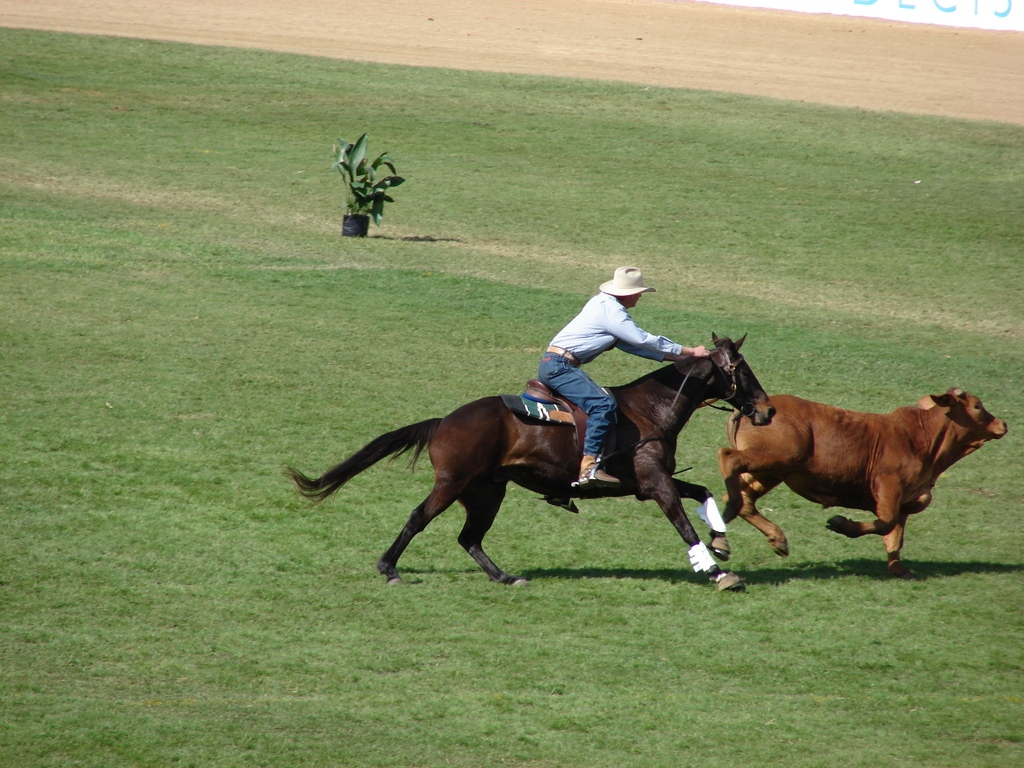horse: (280, 331, 776, 592)
